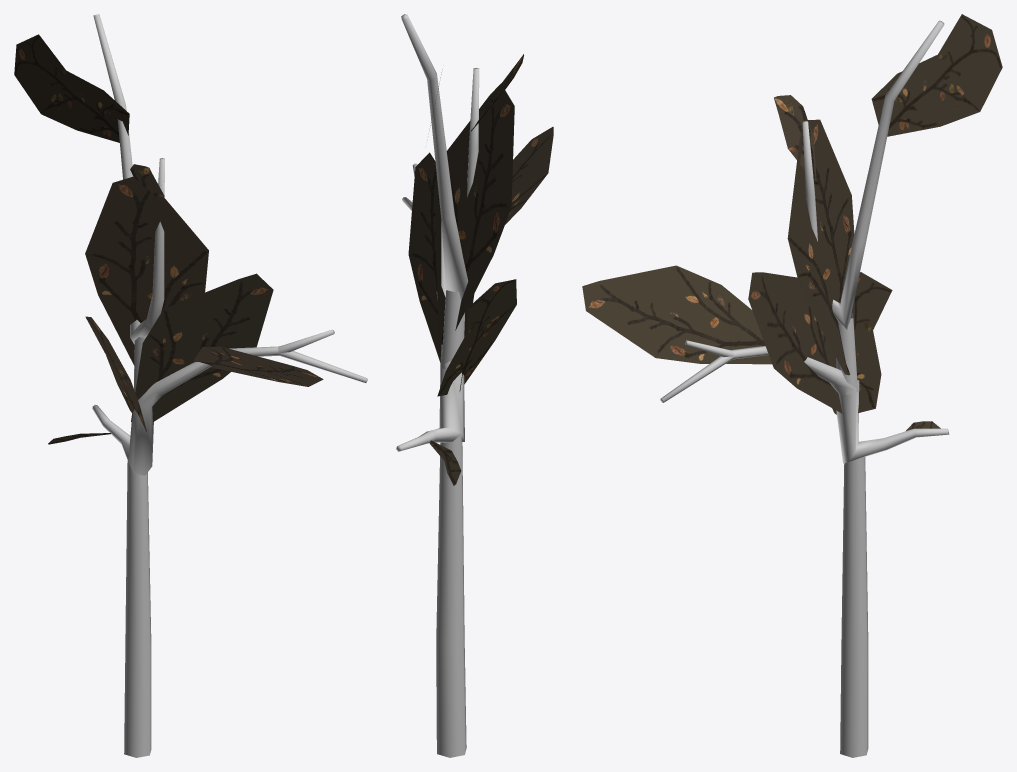
Rendered from SM_Tree_BeechBare_00.fbx.
3 views of the same model, side by side, from view 1: azimuth 30°, elevation 25°; view 2: azimuth 150°, elevation 25°; view 3: azimuth 270°, elevation 25° (orthographic). The views are drawn at different scales.
Visible parts, largest first — view 1: SM_Tree_BeechBare_00; view 2: SM_Tree_BeechBare_00; view 3: SM_Tree_BeechBare_00.
Boxes of the visible parts, x1,y1,x2,y2 form: SM_Tree_BeechBare_00: [14, 14, 367, 757]; SM_Tree_BeechBare_00: [396, 14, 553, 757]; SM_Tree_BeechBare_00: [582, 14, 1002, 757].
Size of the model in its own units: 335 by 1175 by 613.
